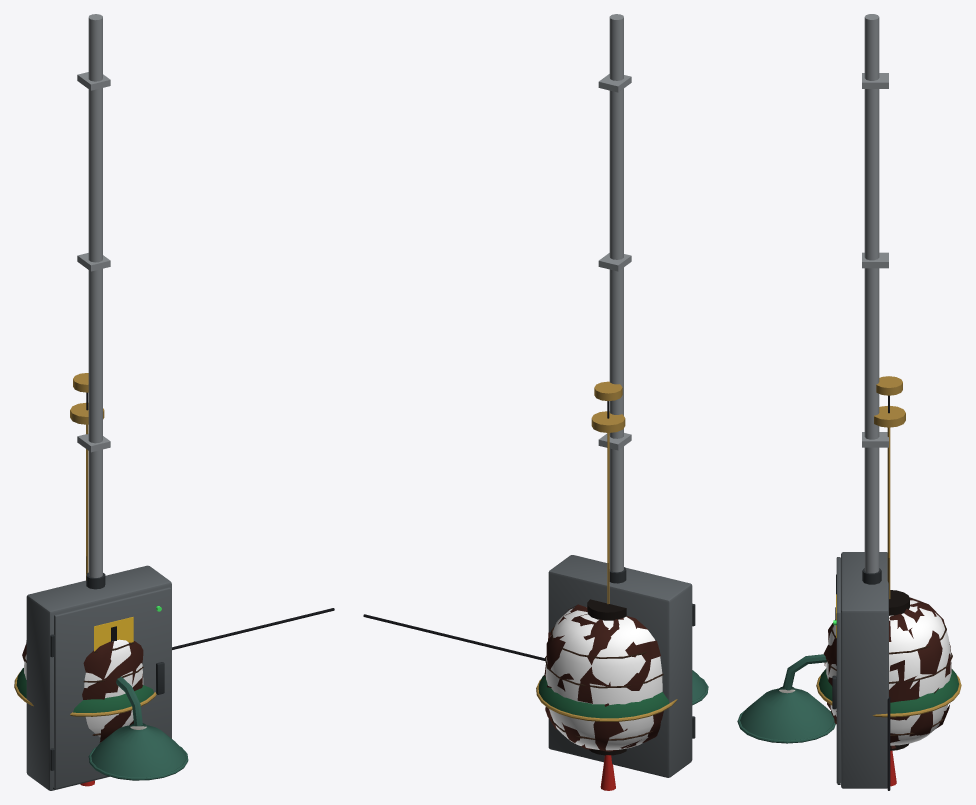
The model's file is lights.glb.
3 renders of one model, left to right at view 1: azimuth 30°, elevation 25°; view 2: azimuth 150°, elevation 25°; view 3: azimuth 270°, elevation 25°, orthographic.
Parts seen in each view (by area): view 1: breaker_box, sconce, lantern_torn, billiard_lamp, lantern, cable; view 2: breaker_box, lantern, lantern_torn, billiard_lamp, cable; view 3: breaker_box, lantern, sconce, lantern_torn, billiard_lamp, pendant.
Boxes of the visible parts, x1,y1,x2,y2 form: breaker_box: (26,14,171,790); sconce: (88,676,188,780); lantern_torn: (22,641,143,786); billiard_lamp: (14,403,156,716); lantern: (23,556,143,786); cable: (172,608,334,649); breaker_box: (548,14,695,777); lantern: (545,599,663,790); lantern_torn: (544,563,663,790); billiard_lamp: (536,411,677,721); cable: (363,614,545,661); breaker_box: (832,14,888,788); lantern: (825,590,952,784); sconce: (737,654,835,743); lantern_torn: (823,558,952,786); billiard_lamp: (816,406,961,717); pendant: (876,376,902,413).
Size of the model in its own units: 1.26 by 2.99 by 0.793.
